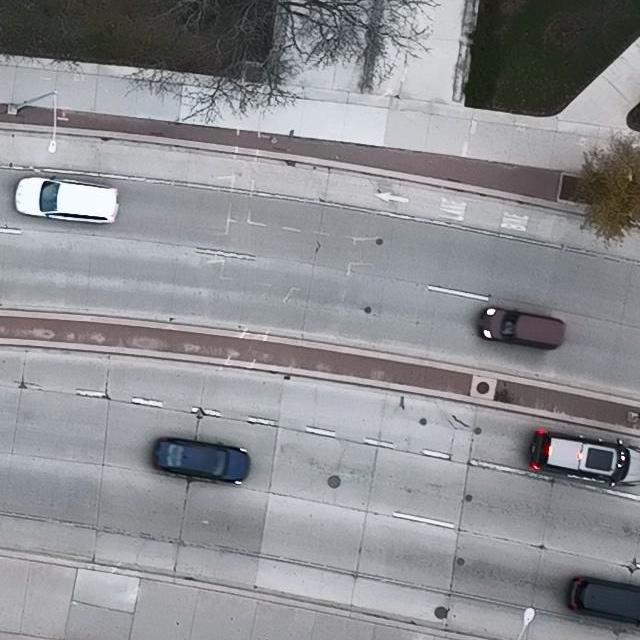car: (530, 428, 640, 486), (12, 175, 119, 223), (152, 436, 250, 484), (475, 304, 566, 350), (565, 576, 640, 624)
